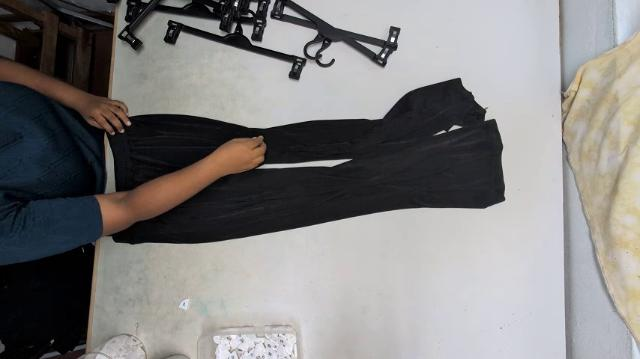new-garment: (110, 79, 504, 244)
